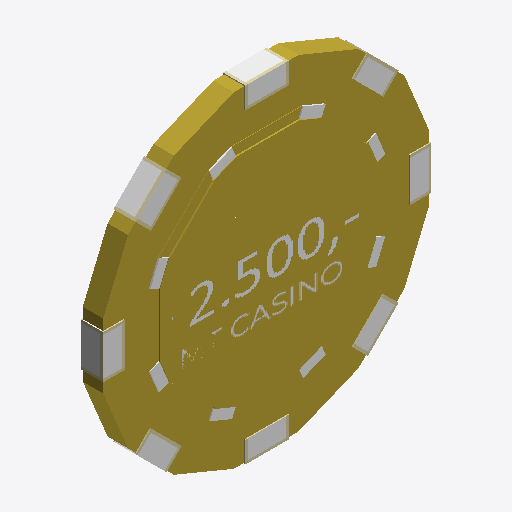
A Minecraft block model of 66 cuboids, rendered isometrically (azimuth 45°, elevation 35.3°) with the resource pack's own textures.
Parts seen in each view (by area): hexadecagon (×35).
Boxes of the visible parts, box(x1,y1,x2,y2) form: hexadecagon (×35): box(81, 37, 430, 474).
Bounding box in the file's own units: 16.1 × 16.1 × 1.2.